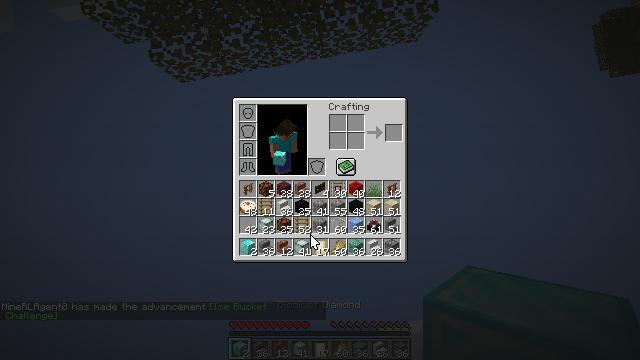cursor: (310, 234, 320, 250)
